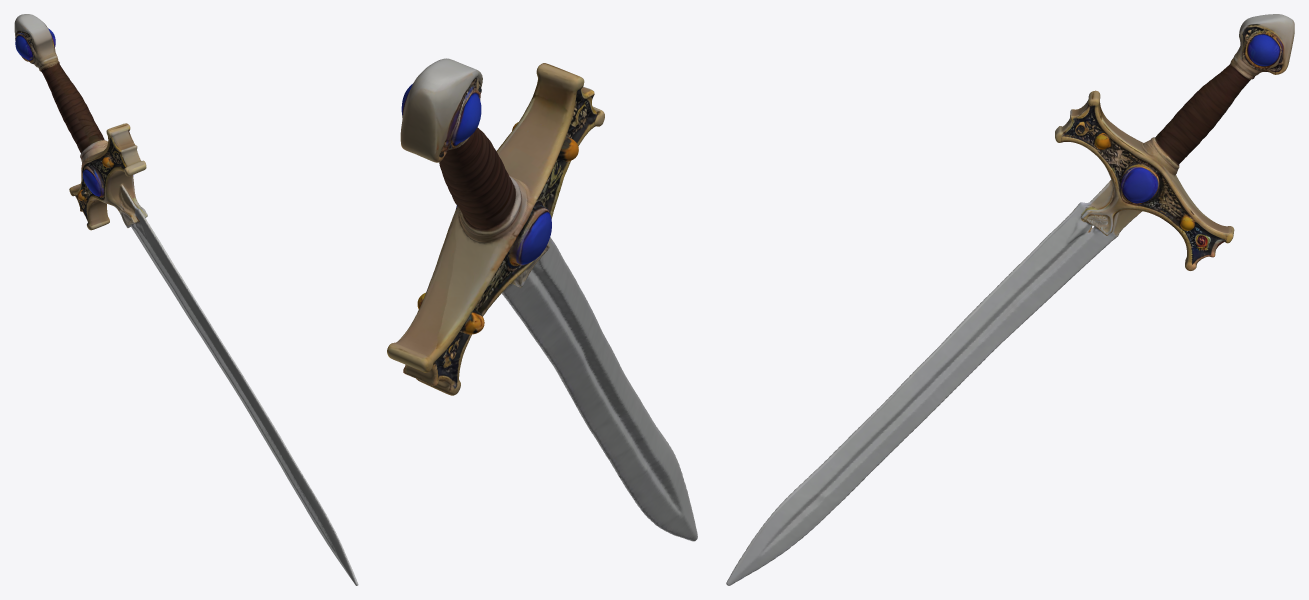
File: ad3085eb-658c-408a-a2ba-3efd157349ed.glb
3 renders of one model, left to right at view 1: azimuth 30°, elevation 25°; view 2: azimuth 150°, elevation 25°; view 3: azimuth 270°, elevation 25°, orthographic. The views are drawn at different scales.
Parts seen in each view (by area): view 1: tripo_node_ad3085eb-658c-408a-a2ba-3efd157349ed; view 2: tripo_node_ad3085eb-658c-408a-a2ba-3efd157349ed; view 3: tripo_node_ad3085eb-658c-408a-a2ba-3efd157349ed.
Boxes of the visible parts, left/top/right/bottom form: tripo_node_ad3085eb-658c-408a-a2ba-3efd157349ed: left=14, top=14, right=358, bottom=585; tripo_node_ad3085eb-658c-408a-a2ba-3efd157349ed: left=387, top=58, right=697, bottom=541; tripo_node_ad3085eb-658c-408a-a2ba-3efd157349ed: left=726, top=14, right=1294, bottom=585.
Size of the model in its own units: 0.2833 by 0.9918 by 1.
Materials: 1 (1 with a texture image).
